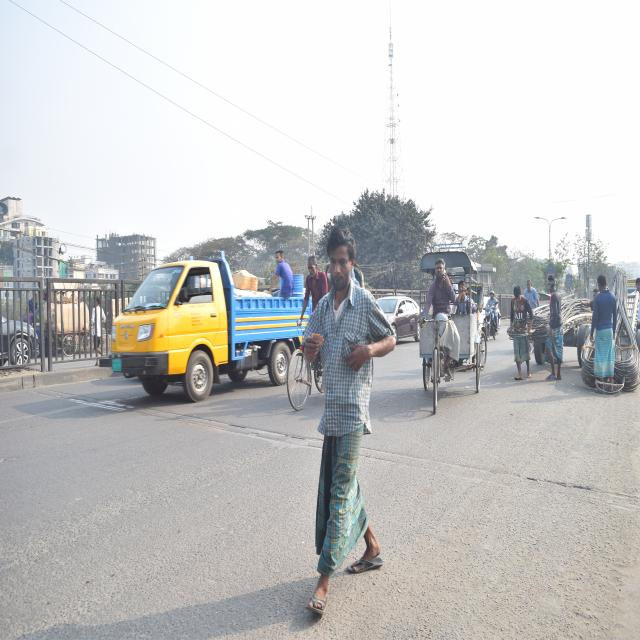car: (374, 287, 425, 352)
motorbike: (478, 298, 504, 338)
pickup-van: (107, 249, 322, 414)
